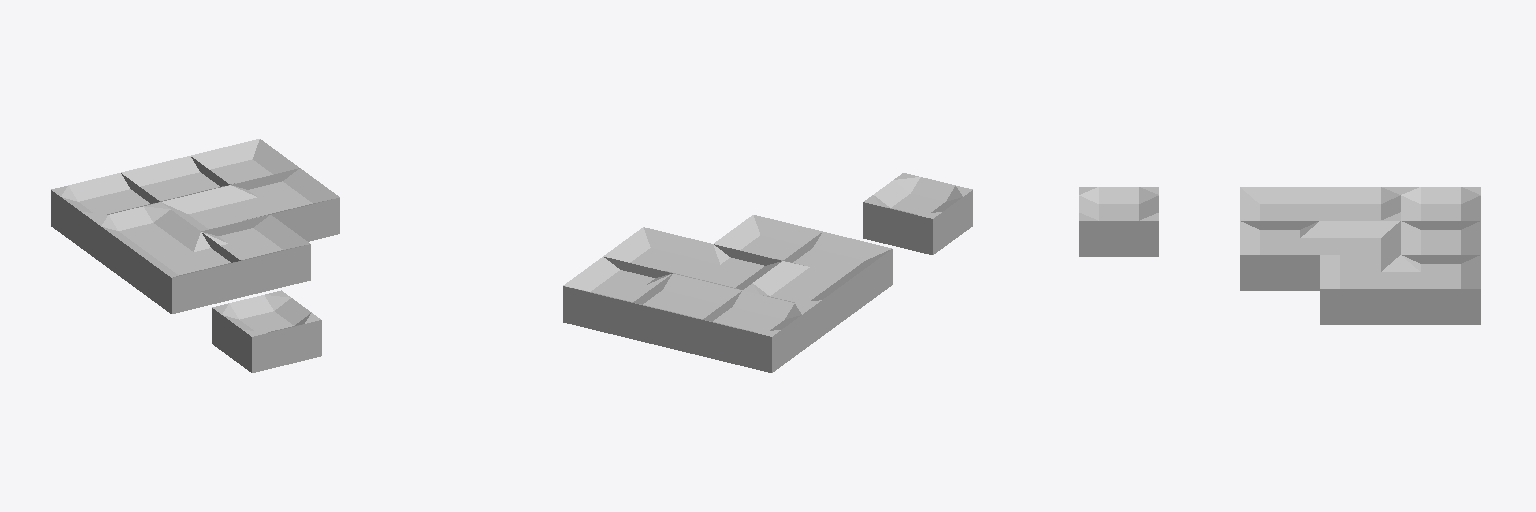
File: 86s_path.obj
3 renders of one model, left to right at view 1: azimuth 30°, elevation 25°; view 2: azimuth 150°, elevation 25°; view 3: azimuth 270°, elevation 25°, orthographic.
Parts seen in each view (by area): view 1: hole.2.0_Cube.322, corner.2.2_corner.1599, corner.3.2_corner.1600, corner.4.3_corner.1602, ending.2.3_ending.641, ending.2.4_ending.642, through.3.4_through.323, corner.4.4_corner.1603, corner.3.3_corner.1601; view 2: hole.2.0_Cube.322, ending.2.4_ending.642, through.3.4_through.323, corner.4.4_corner.1603, corner.2.2_corner.1599, ending.2.3_ending.641, corner.4.3_corner.1602, corner.3.2_corner.1600, corner.3.3_corner.1601; view 3: hole.2.0_Cube.322, corner.4.4_corner.1603, corner.4.3_corner.1602, corner.3.2_corner.1600, corner.3.3_corner.1601, corner.2.2_corner.1599, through.3.4_through.323, ending.2.3_ending.641, ending.2.4_ending.642.
Part boxes in pixels (x1,y1,x2,y2): hole.2.0_Cube.322: (212, 290, 321, 372); corner.2.2_corner.1599: (131, 232, 240, 313); corner.3.2_corner.1600: (202, 215, 310, 296); corner.4.3_corner.1602: (231, 168, 339, 241); ending.2.3_ending.641: (91, 202, 200, 283); ending.2.4_ending.642: (51, 173, 158, 254); through.3.4_through.323: (121, 156, 228, 203); corner.4.4_corner.1603: (191, 139, 298, 186); corner.3.3_corner.1601: (161, 185, 266, 235); hole.2.0_Cube.322: (863, 173, 972, 254); ending.2.4_ending.642: (702, 290, 811, 372); through.3.4_through.323: (633, 274, 741, 355); corner.4.4_corner.1603: (563, 257, 671, 338); corner.2.2_corner.1599: (783, 232, 892, 313); ending.2.3_ending.641: (743, 261, 851, 343); corner.4.3_corner.1602: (603, 227, 712, 277); corner.3.2_corner.1600: (714, 215, 822, 265); corner.3.3_corner.1601: (677, 244, 781, 289); hole.2.0_Cube.322: (1079, 187, 1158, 256); corner.4.4_corner.1603: (1401, 255, 1480, 324); corner.4.3_corner.1602: (1320, 255, 1400, 324); corner.3.2_corner.1600: (1240, 221, 1319, 290); corner.3.3_corner.1601: (1320, 221, 1400, 263); corner.2.2_corner.1599: (1240, 187, 1319, 229); through.3.4_through.323: (1401, 221, 1480, 263); ending.2.3_ending.641: (1320, 187, 1400, 220); ending.2.4_ending.642: (1401, 187, 1480, 220).
Bounding box in the file's own units: 6 × 1 × 10.